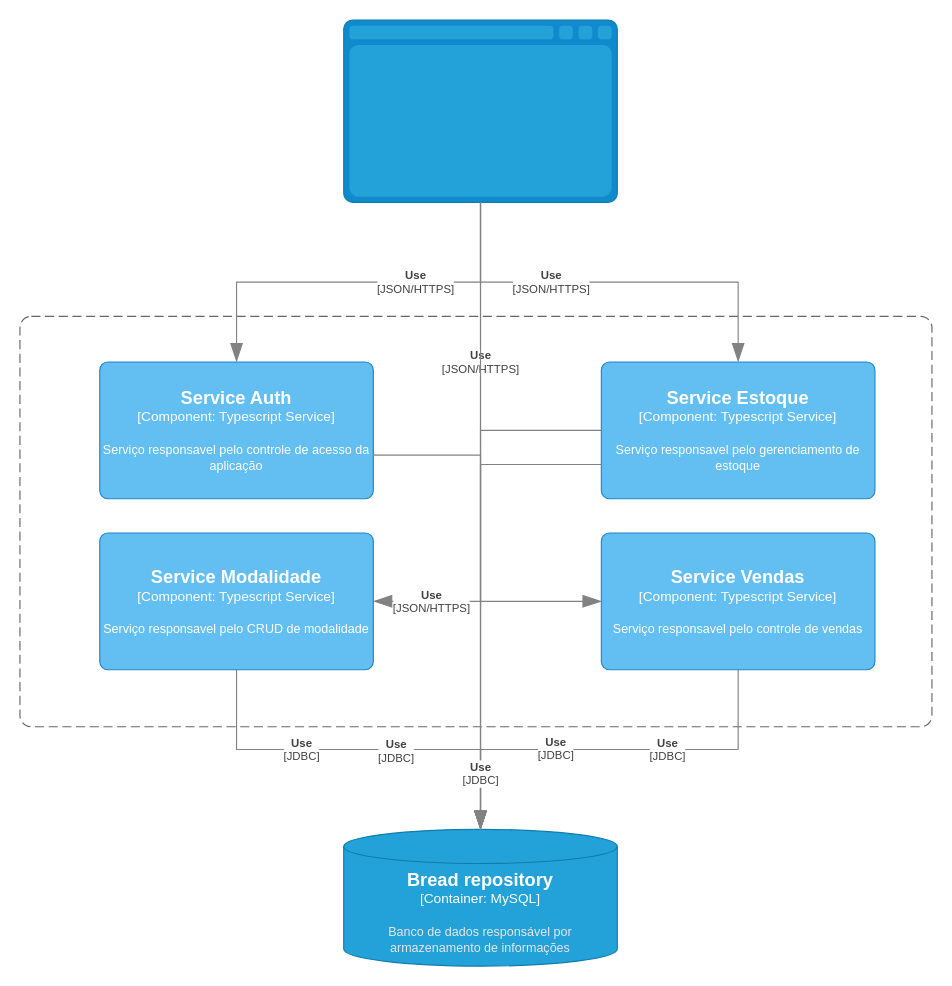
This 952x986 diagram has some shape labels left out. The box of each missing label's shape, as (x1, y1, x2, y2) in pixels:
Bread API [Software System]: (19, 315, 932, 727)
Bread WEB [Container: Angular] Frontend do Bread system: (343, 19, 617, 202)
